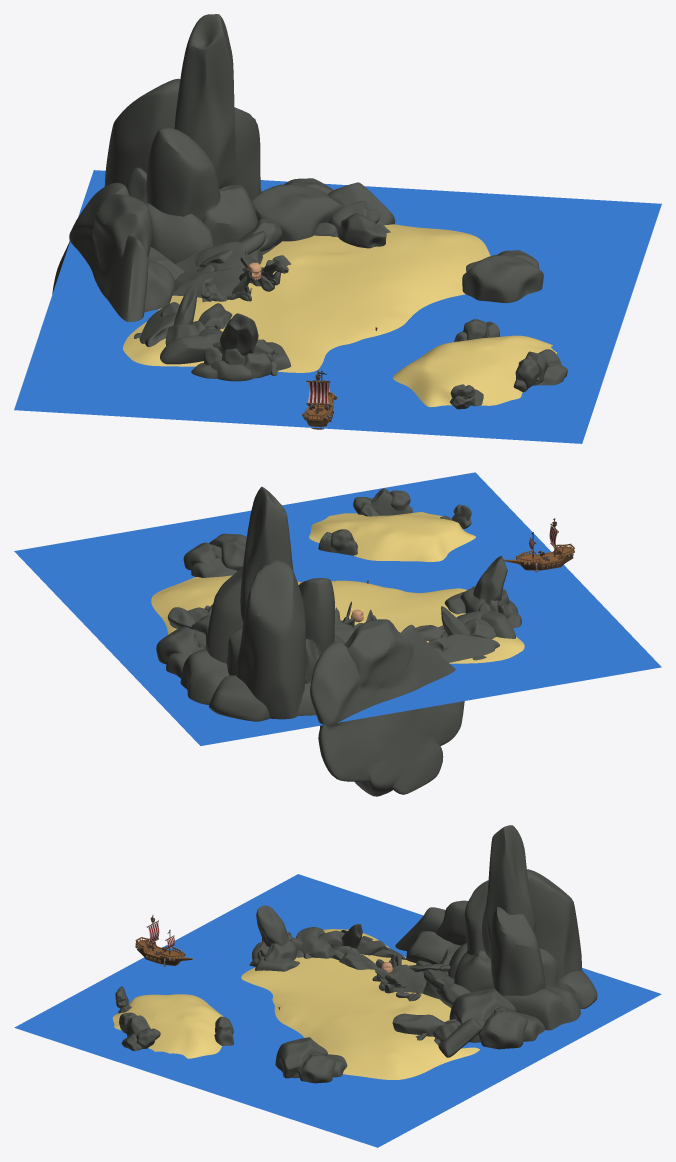
Rendered from island1.glb.
The picture shows the model from 3 angles, top to bottom: view 1: azimuth 30°, elevation 25°; view 2: azimuth 150°, elevation 25°; view 3: azimuth 270°, elevation 25°; orthographic projection. The views are drawn at different scales.
Visible parts, largest first — view 1: Plane.001, Enviroment_sea, Environment_Cliff2.001, Environment_Cliff2.002, Environment_Cliff4.001, Environment_Cliff1.010, Environment_Cliff1.001, Environment_Cliff4.002, Environment_Cliff1.002, Environment_Cliff3.001, Environment_Cliff2.003, Ship_Large.001 (+4 smaller); view 2: Plane.001, Environment_Cliff2.001, Environment_Cliff2.002, Enviroment_sea, Environment_Cliff4.001, Environment_Cliff1.001, Environment_Cliff1.010, Environment_Cliff3.001, Ship_Large.001, Environment_Cliff1.003, Environment_Cliff1.004, Environment_Cliff1.005 (+2 smaller); view 3: Plane.001, Enviroment_sea, Environment_Cliff2.001, Environment_Cliff1.010, Environment_Cliff2.002, Environment_Cliff1.001, Environment_Cliff4.001, Environment_Cliff4.002, Environment_Cliff3.001, Ship_Large.001, Environment_Cliff2.003, Environment_Cliff4.005 (+4 smaller).
Part boxes in pixels (x1=…): Plane.001: x1=14, y1=170, x2=661, y2=443; Enviroment_sea: x1=123, y1=224, x2=556, y2=407; Environment_Cliff2.001: x1=104, y1=14, x2=261, y2=263; Environment_Cliff2.002: x1=52, y1=182, x2=183, y2=321; Environment_Cliff4.001: x1=191, y1=313, x2=290, y2=381; Environment_Cliff1.010: x1=251, y1=178, x2=342, y2=246; Environment_Cliff1.001: x1=462, y1=250, x2=543, y2=303; Environment_Cliff4.002: x1=314, y1=182, x2=395, y2=248; Environment_Cliff1.002: x1=172, y1=241, x2=245, y2=297; Environment_Cliff3.001: x1=160, y1=302, x2=222, y2=364; Environment_Cliff2.003: x1=199, y1=218, x2=282, y2=267; Ship_Large.001: x1=302, y1=370, x2=337, y2=429; Plane.001: x1=14, y1=472, x2=661, y2=745; Environment_Cliff2.001: x1=180, y1=486, x2=345, y2=721; Environment_Cliff2.002: x1=310, y1=619, x2=464, y2=796; Enviroment_sea: x1=151, y1=512, x2=524, y2=663; Environment_Cliff4.001: x1=444, y1=555, x2=521, y2=627; Environment_Cliff1.001: x1=183, y1=533, x2=246, y2=577; Environment_Cliff1.010: x1=156, y1=615, x2=210, y2=678; Environment_Cliff3.001: x1=428, y1=611, x2=515, y2=652; Ship_Large.001: x1=504, y1=518, x2=574, y2=572; Environment_Cliff1.003: x1=436, y1=634, x2=499, y2=662; Environment_Cliff1.004: x1=370, y1=488, x2=412, y2=515; Environment_Cliff1.005: x1=318, y1=529, x2=357, y2=555; Plane.001: x1=14, y1=874, x2=661, y2=1147; Enviroment_sea: x1=112, y1=929, x2=479, y2=1079; Environment_Cliff2.001: x1=448, y1=825, x2=597, y2=1030; Environment_Cliff1.010: x1=449, y1=988, x2=545, y2=1049; Environment_Cliff2.002: x1=395, y1=900, x2=468, y2=973; Environment_Cliff1.001: x1=275, y1=1037, x2=347, y2=1083; Environment_Cliff4.001: x1=252, y1=905, x2=303, y2=971; Environment_Cliff4.002: x1=392, y1=1013, x2=484, y2=1057; Environment_Cliff3.001: x1=296, y1=927, x2=387, y2=958; Ship_Large.001: x1=135, y1=915, x2=192, y2=966; Environment_Cliff2.003: x1=416, y1=960, x2=470, y2=1008; Environment_Cliff4.005: x1=378, y1=964, x2=426, y2=993.
Size of the model in its own units: 355 by 156 by 355.
11 materials, 9 textured.
